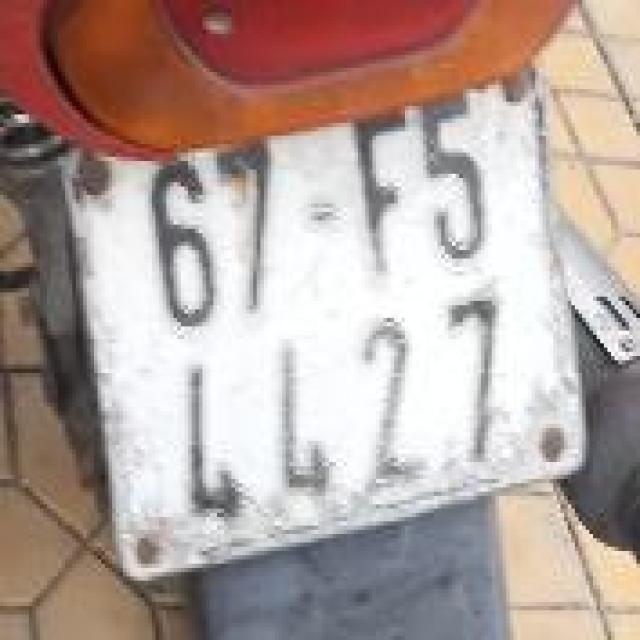2: (352, 312, 425, 498)
4: (173, 354, 250, 536), (266, 330, 338, 513)
5: (412, 85, 503, 275)
6: (146, 159, 219, 350)
7: (210, 134, 286, 328), (443, 290, 515, 473)
F: (347, 108, 412, 290)
